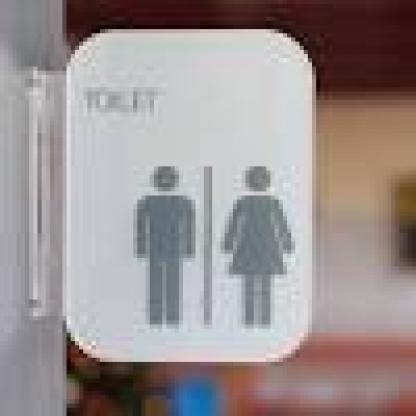toilet: (127, 152, 301, 335)
